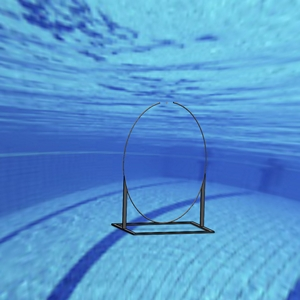circle: (111, 97, 214, 235)
